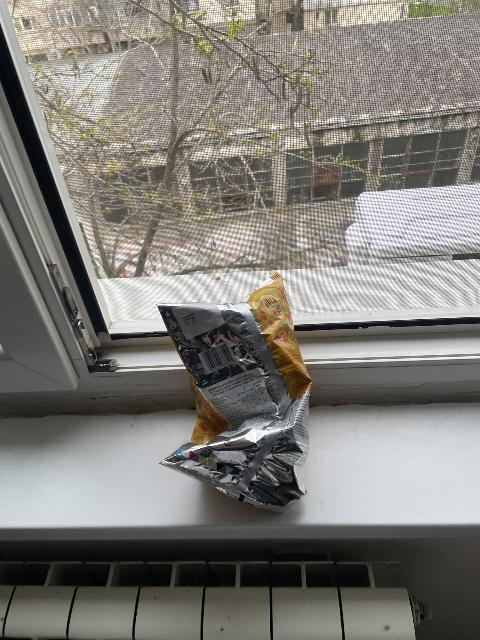Chio Hula Hoops Cheese 70g: (154, 281, 314, 507)
